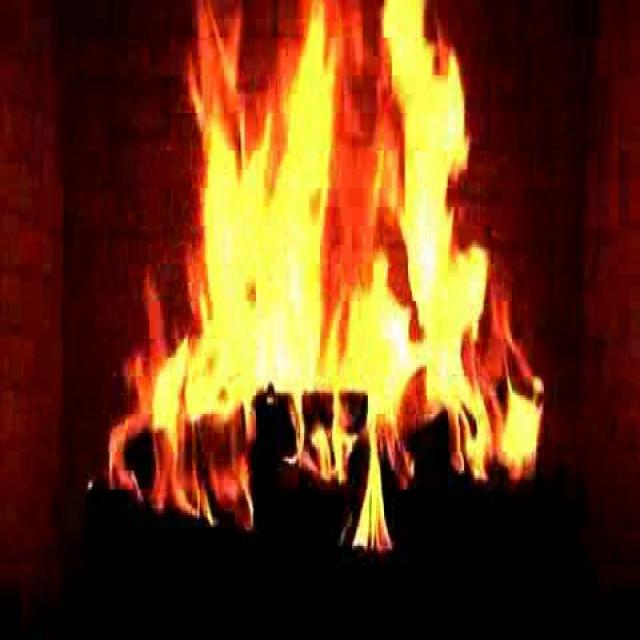Fire: (87, 0, 564, 572)
